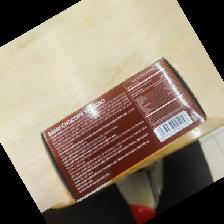Chocopie_cacao: (37, 58, 206, 205)
